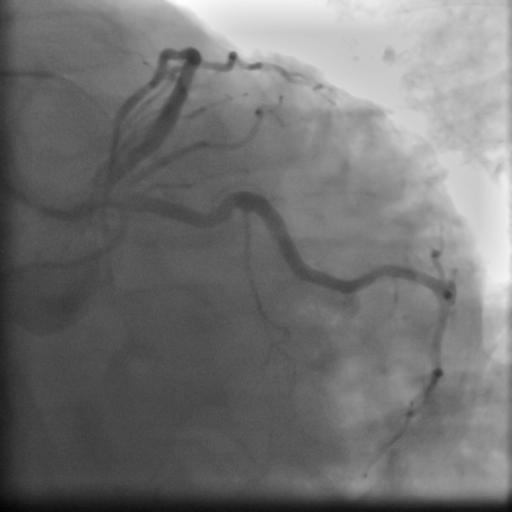Stenosis: (211, 192, 235, 219)
